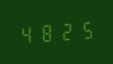eight: (37, 21, 55, 44)
five: (75, 18, 93, 41)
four: (18, 22, 36, 45)
two: (56, 20, 74, 42)
